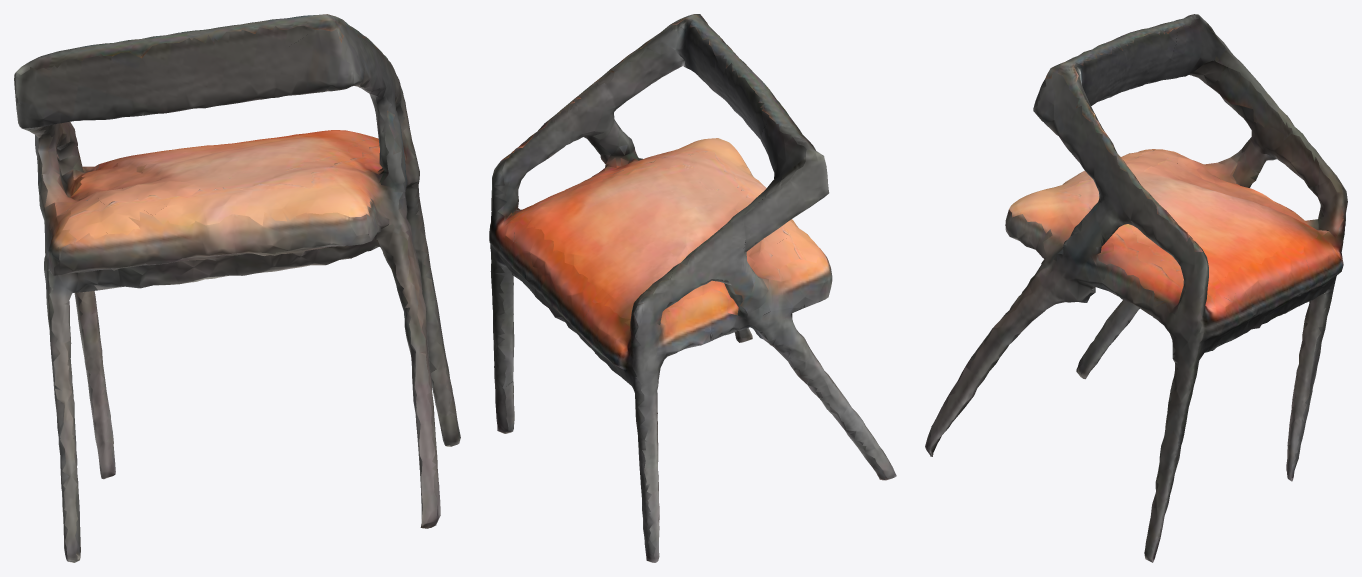
The picture shows the model from 3 angles, left to right: view 1: azimuth 30°, elevation 25°; view 2: azimuth 150°, elevation 25°; view 3: azimuth 270°, elevation 25°; orthographic projection. The views are drawn at different scales.
Parts seen in each view (by area): view 1: world; view 2: world; view 3: world.
Part boxes in pixels (x1,y1,x2,y2): world: (14, 14, 460, 562); world: (489, 14, 896, 562); world: (925, 14, 1347, 562).
Bounding box in the file's own units: 0.7334 × 0.8645 × 0.7347.
Materials: 1 (1 with a texture image).
